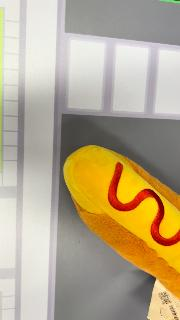hotdog: (63, 144, 180, 300)
